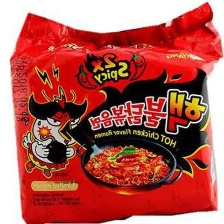snack: (3, 0, 224, 224)
